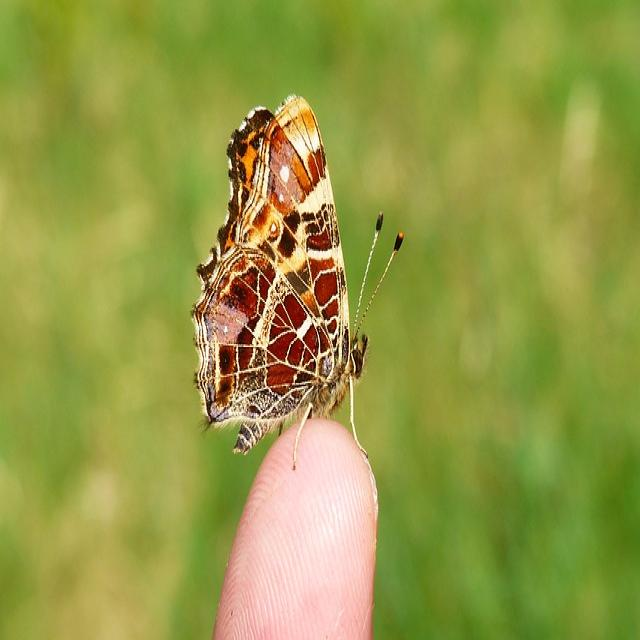butterfly: (190, 95, 369, 457)
